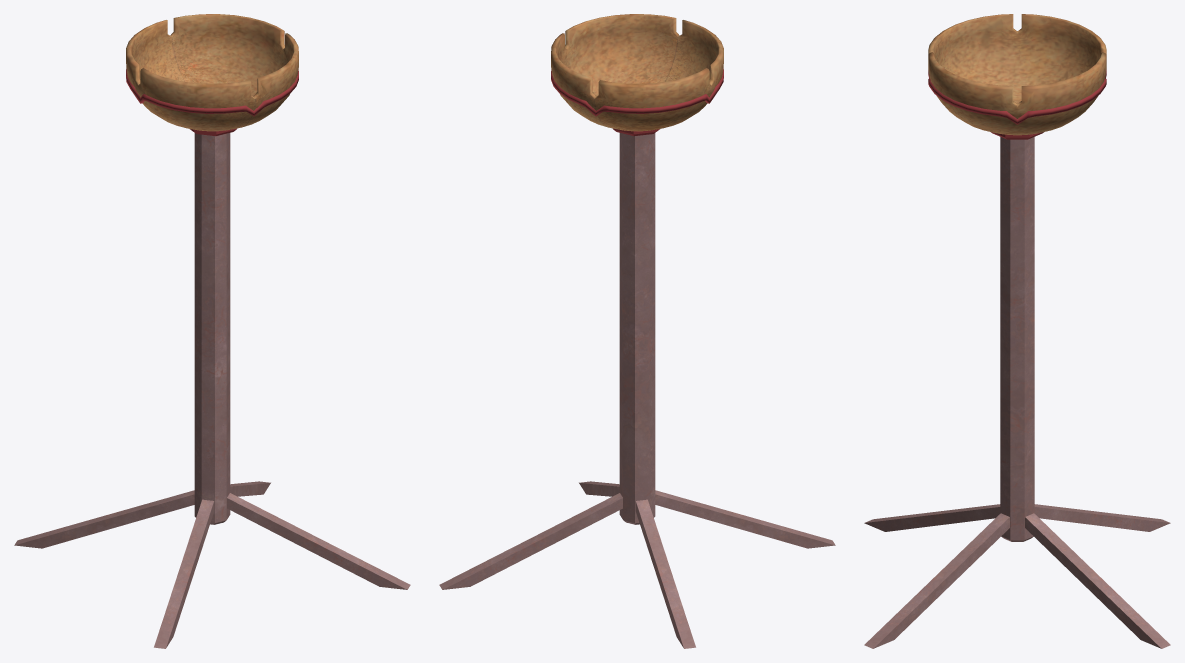
The model's file is FireStand.gltf.
3 renders of one model, left to right at view 1: azimuth 30°, elevation 25°; view 2: azimuth 150°, elevation 25°; view 3: azimuth 270°, elevation 25°, orthographic. The views are drawn at different scales.
Parts seen in each view (by area): view 1: Bowl, Stem, Feets, BowlAddon; view 2: Bowl, Stem, Feets, BowlAddon; view 3: Bowl, Stem, Feets, BowlAddon.
Part boxes in pixels (x1=…): Bowl: x1=126, y1=14, x2=298, y2=131; Stem: x1=194, y1=133, x2=230, y2=524; Feets: x1=14, y1=481, x2=410, y2=648; BowlAddon: x1=126, y1=68, x2=298, y2=116; Bowl: x1=551, y1=14, x2=723, y2=131; Stem: x1=619, y1=133, x2=655, y2=524; Feets: x1=439, y1=481, x2=835, y2=648; BowlAddon: x1=551, y1=68, x2=723, y2=116; Bowl: x1=928, y1=14, x2=1106, y2=135; Stem: x1=1000, y1=137, x2=1034, y2=541; Feets: x1=864, y1=504, x2=1170, y2=648; BowlAddon: x1=928, y1=70, x2=1106, y2=124.
Bounding box in the file's own units: 1.16 × 2.23 × 1.16.
3 materials, 2 textured.
